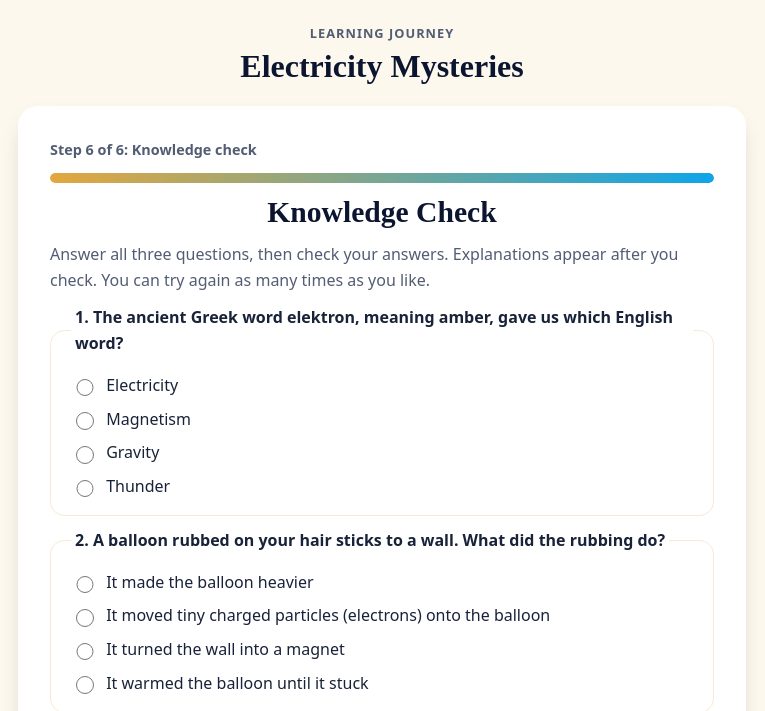
Test: LessonPage › answering the quiz alone saves in progress and never shows the completion screen
The image size is (765, 711).
Click the radio button labelled "Electricity". click: {"x": 85, "y": 388}
box: x1=76 y1=379 x2=94 y2=396
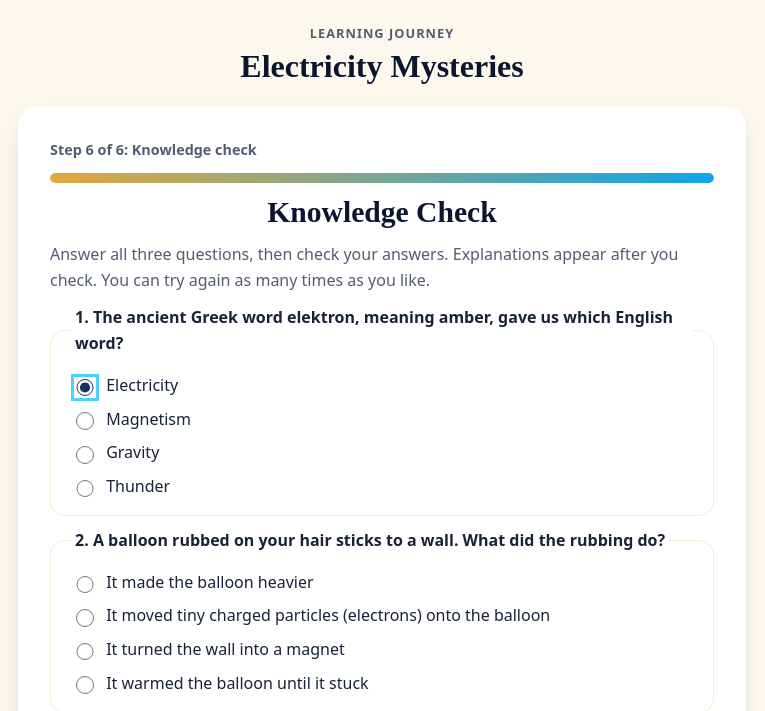
Click the radio button labelled "It moved tiny charged particles (electrons) onto the balloon". click: {"x": 85, "y": 618}
box: x1=76 y1=609 x2=94 y2=627
(page scrolled)
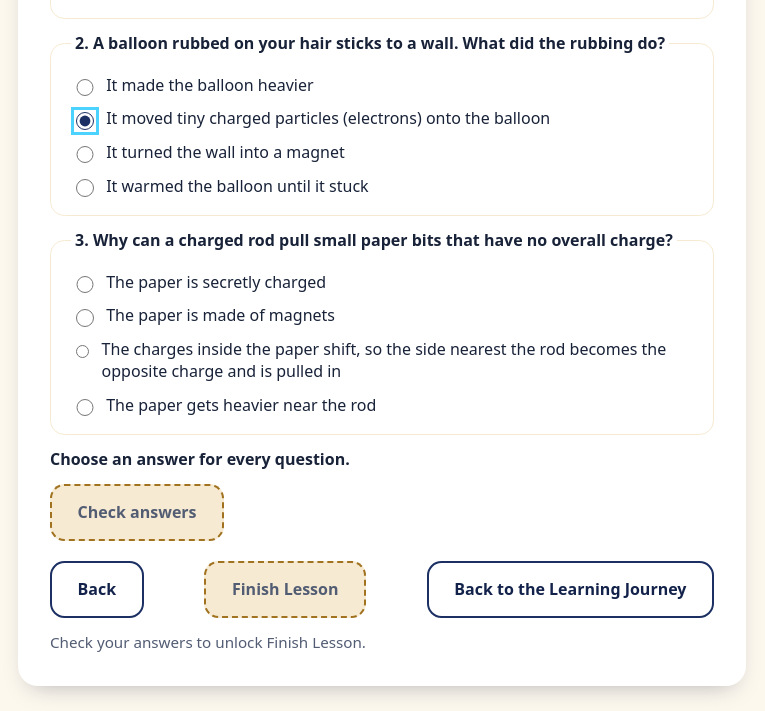
Click the radio button named "The charges inside the paper shift, so the side nearest the rod becomes the opposite charge and is pulled in". click: {"x": 82, "y": 352}
box: x1=76 y1=343 x2=89 y2=360
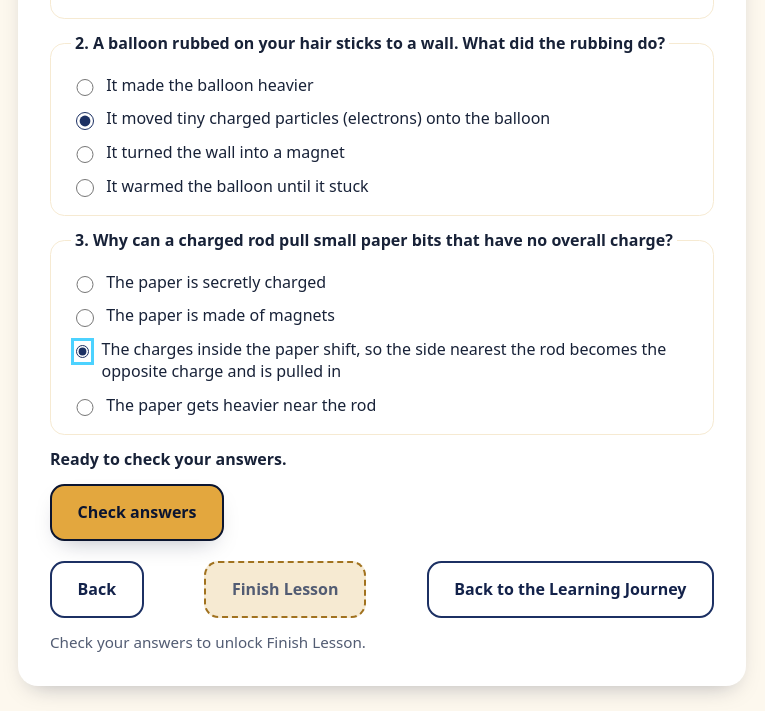
Click the button "Check answers". click: {"x": 137, "y": 513}
box: x1=50 y1=484 x2=224 y2=541
(page scrolled)
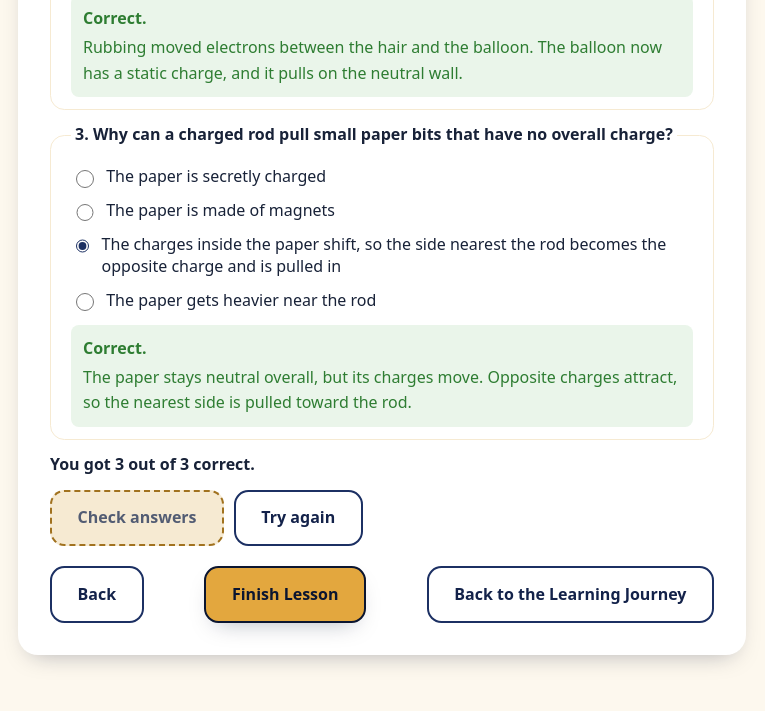
Now the text "You got 3 out of 3 correct." is shown, box x1=50 y1=453 x2=255 y2=475
